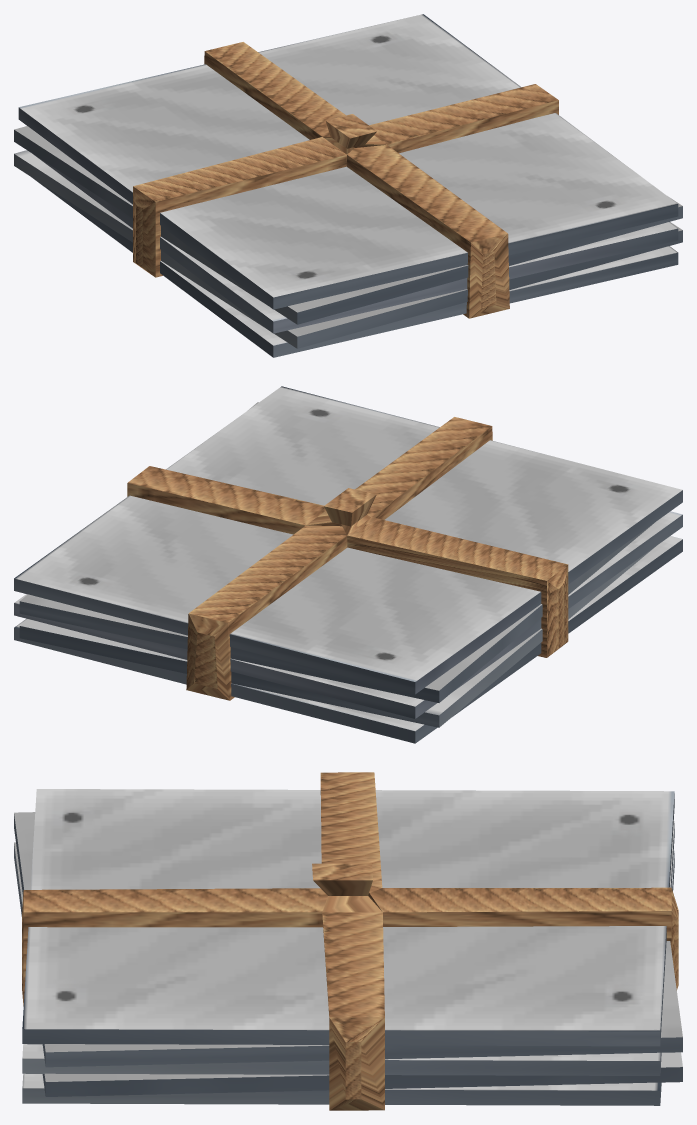
The model's file is CSR_BoundSmallMetalSheets5.fbx.
3 views of the same model, one above another, from view 1: azimuth 30°, elevation 25°; view 2: azimuth 150°, elevation 25°; view 3: azimuth 270°, elevation 25° (orthographic). The views are drawn at different scales.
Visible parts, largest first — view 1: Small Metal Sheets x5; view 2: Small Metal Sheets x5; view 3: Small Metal Sheets x5.
Part boxes in pixels (box(x1,y1,x2,y2)): Small Metal Sheets x5: box(14, 14, 682, 357); Small Metal Sheets x5: box(14, 386, 682, 743); Small Metal Sheets x5: box(14, 772, 682, 1110).
Size of the model in its own units: 0.2526 by 0.0542 by 0.2803.
1 material, 1 textured.
